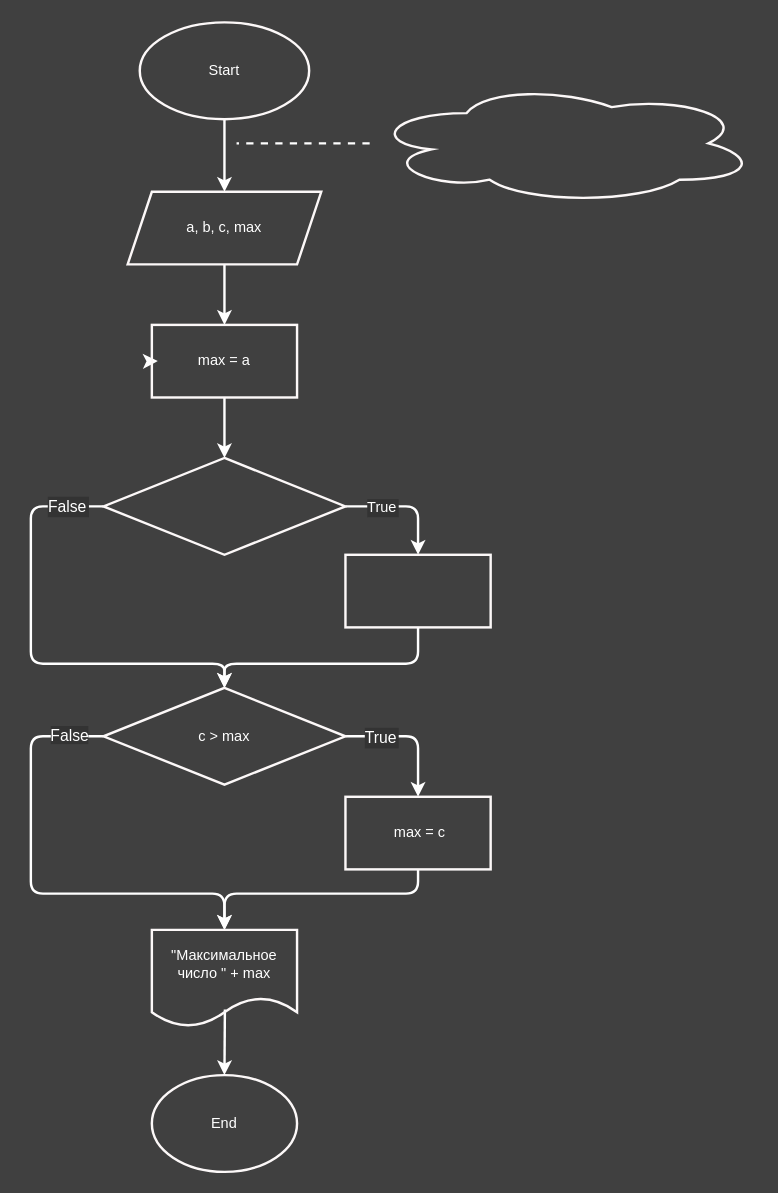
Image size: 778x1193. Some labels were removed from this diagram. Here are the shapes that lost their labels. From the top down, the centre of each, then its label:
point (562, 142): Найти максимальное из трех чисел
point (224, 505): b > max
point (417, 590): max = b
